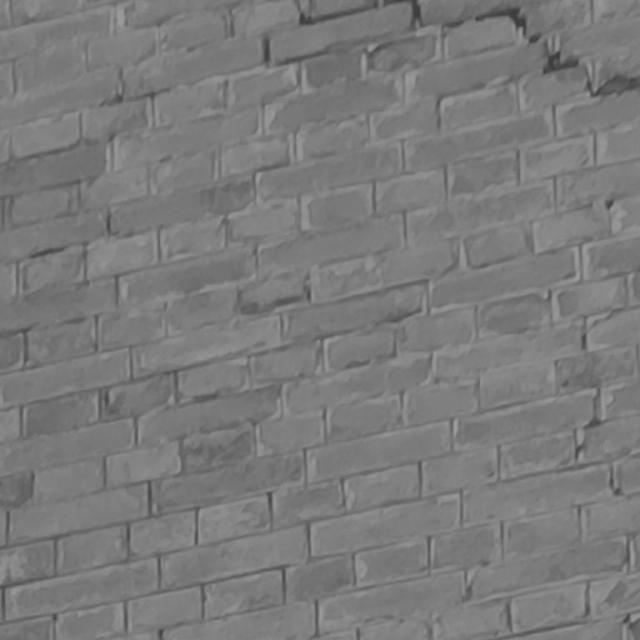crack: (263, 1, 640, 97)
